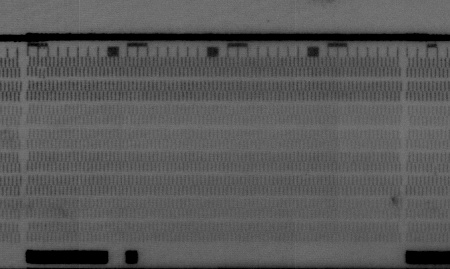Oblique printing: (33, 67, 50, 81), (429, 162, 442, 177)
